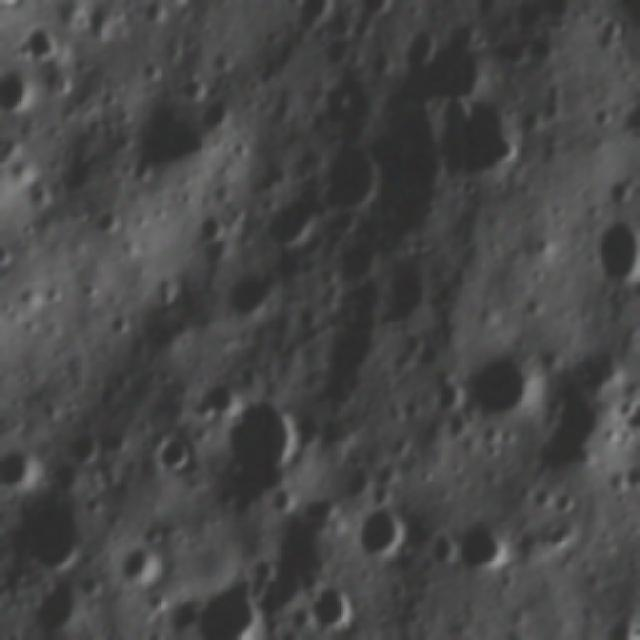crater: (355, 99, 462, 238), (442, 93, 529, 185), (535, 388, 616, 486), (224, 394, 308, 477), (184, 569, 279, 640), (468, 344, 547, 427), (9, 495, 89, 574), (310, 139, 382, 215), (138, 117, 216, 185), (374, 260, 438, 338), (419, 30, 488, 102), (586, 211, 639, 286), (354, 500, 414, 562), (449, 520, 511, 578), (261, 196, 324, 252), (307, 578, 367, 632), (422, 367, 466, 425), (118, 542, 167, 593), (228, 274, 274, 326), (150, 428, 196, 478), (418, 525, 459, 578), (202, 372, 238, 422), (0, 446, 32, 498), (22, 26, 62, 66), (0, 67, 31, 118), (195, 208, 232, 246), (366, 45, 400, 86), (69, 428, 103, 466), (200, 99, 237, 132), (0, 235, 25, 273), (98, 206, 124, 240)
